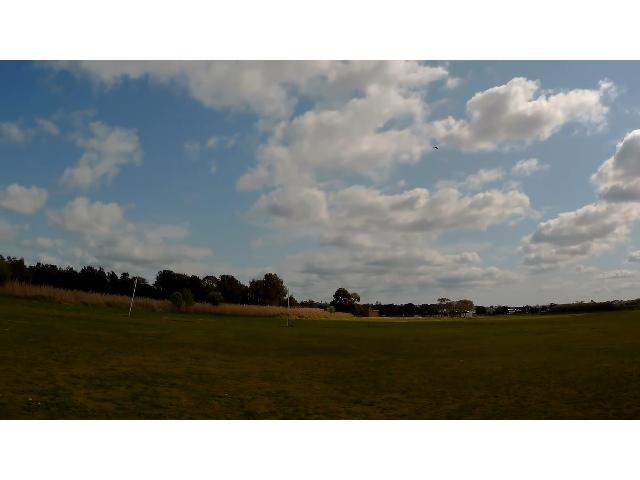Anti-Drone: (421, 138, 451, 158)
